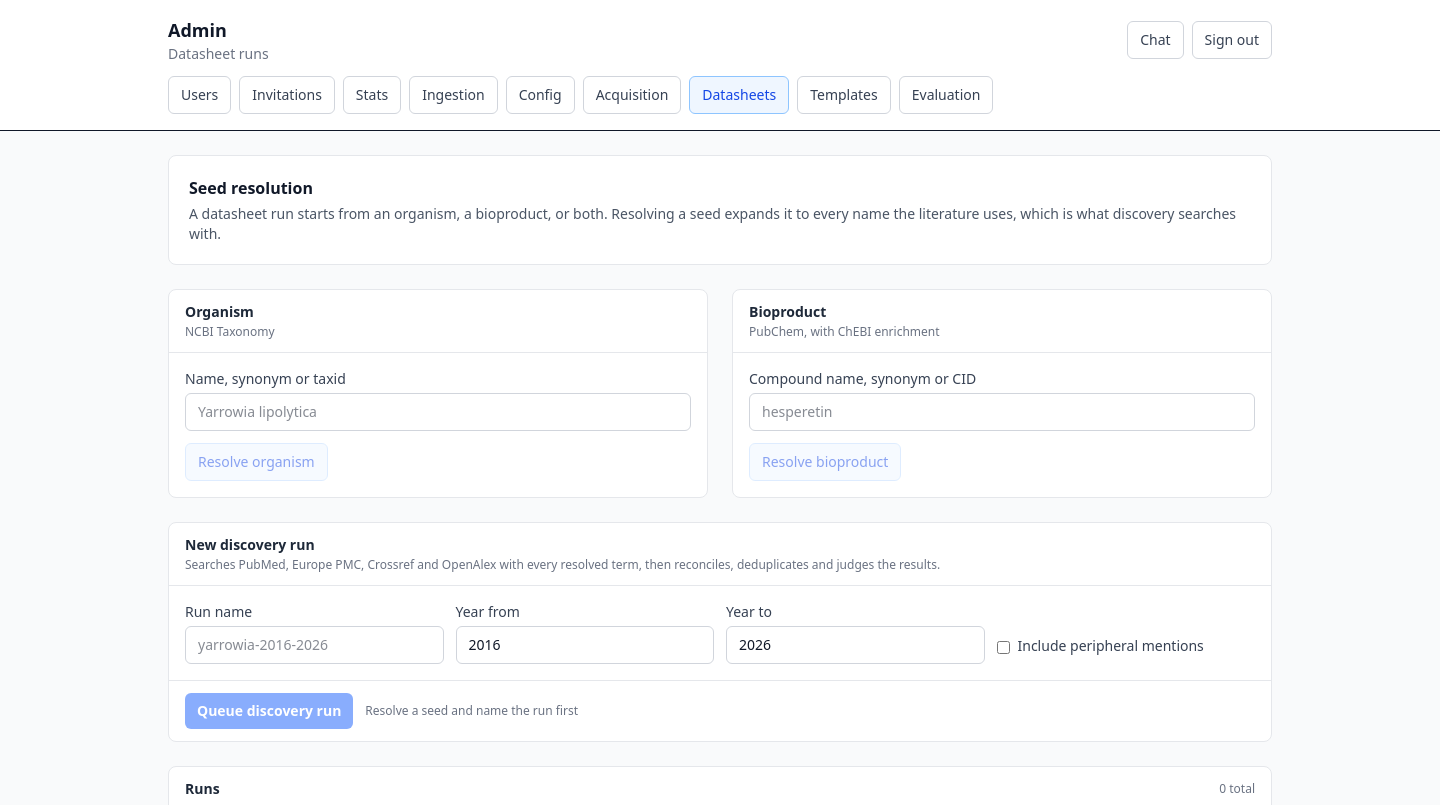
Test case: AdminDatasheetSeedClient › asks the admin to pick a class when no rule matched
The image size is (1440, 805).
Step 1. Type "zorblaxine" into the field with placeholder "hesperetin" → (1002, 412), box [749,393,1255,431]
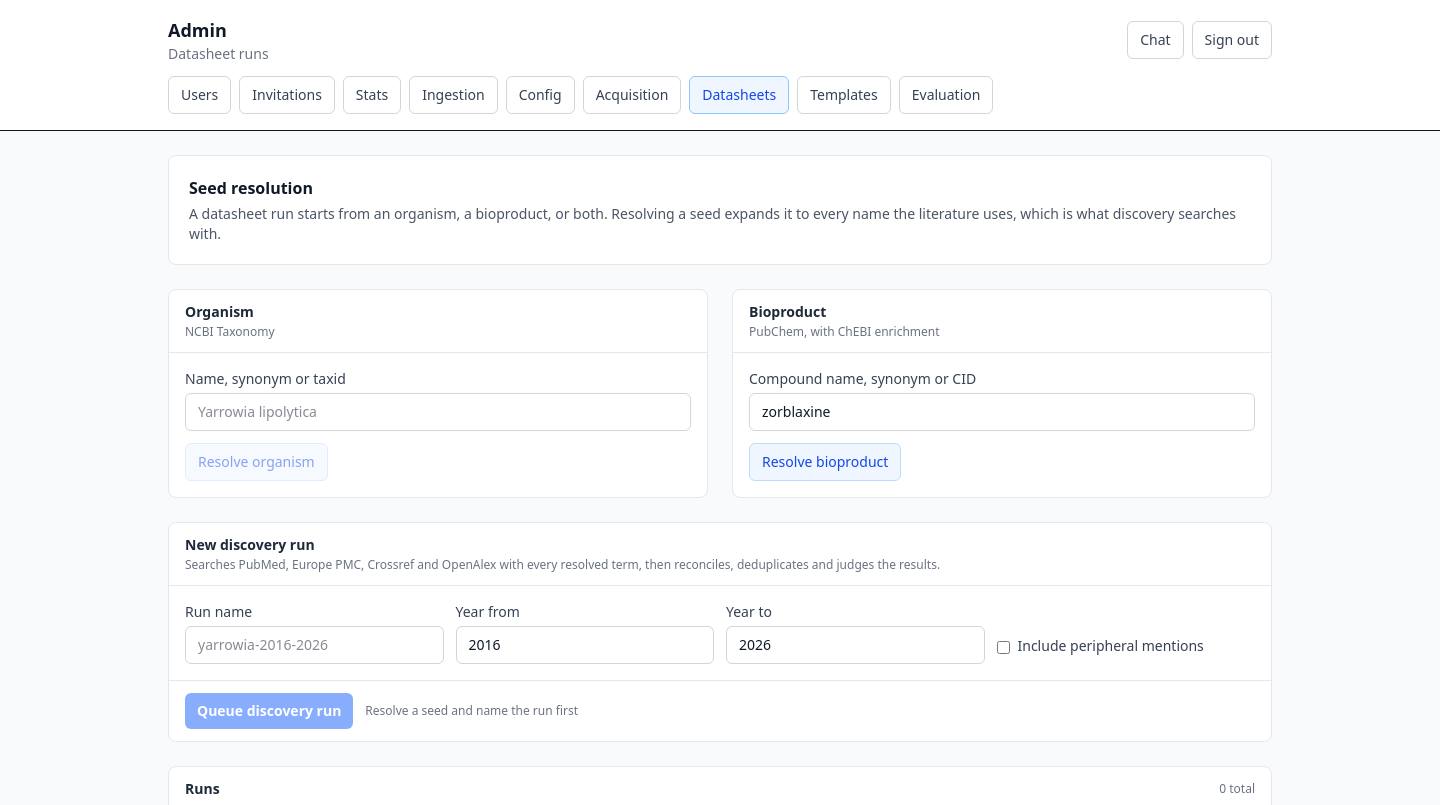
Step 2. Click the button "Resolve bioproduct" → (825, 462), box [749,443,901,481]
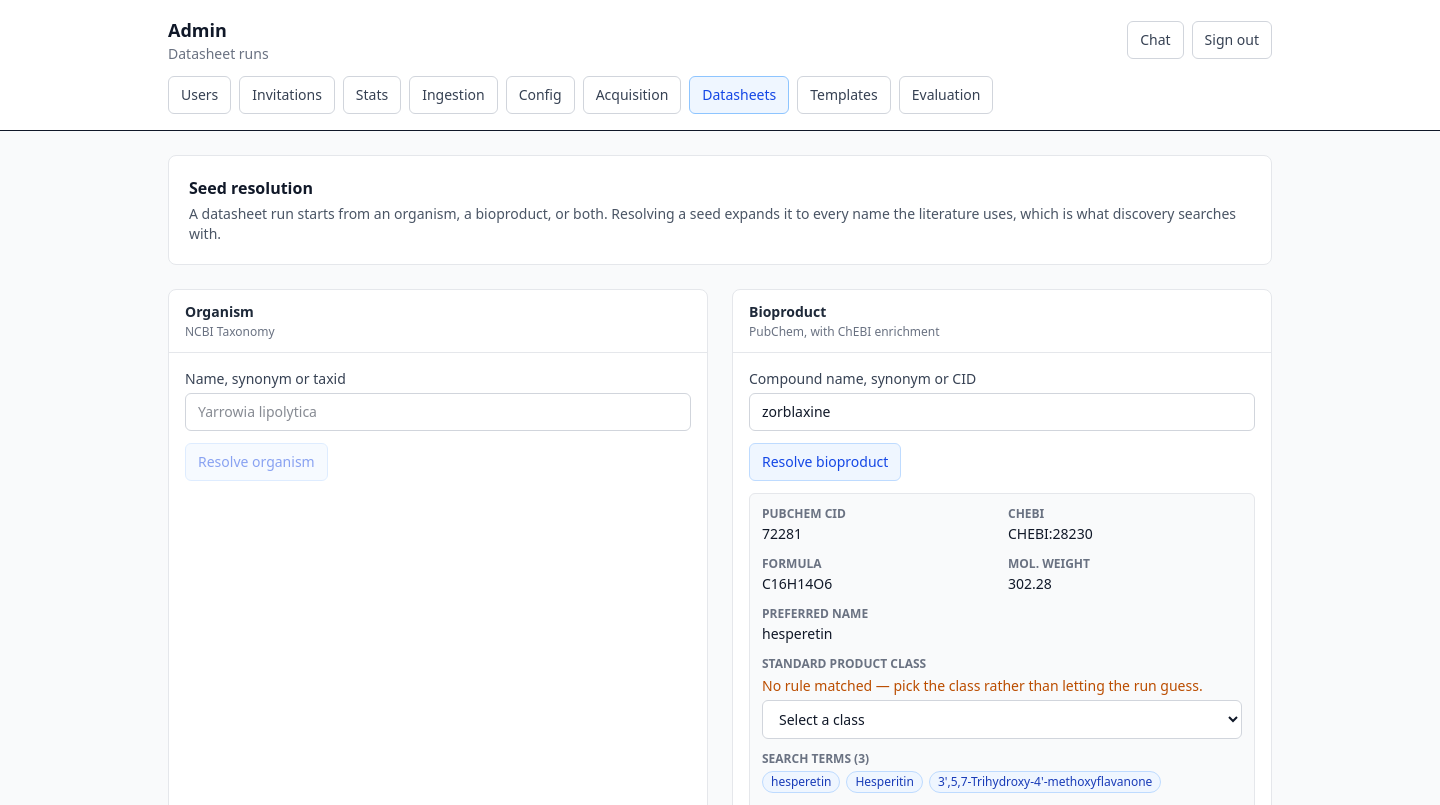
expect the dropdown named "Standard product class" shows "Select a class": met, box [762,700,1242,739]
expect the text "No rule matched" is shown: met, box [762,676,1203,695]
